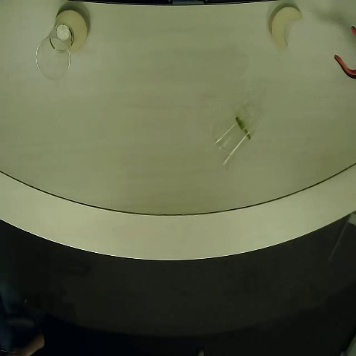empty_cup: (199, 105, 267, 169), (36, 22, 76, 85)
puck: (264, 2, 309, 53), (48, 7, 90, 54)
